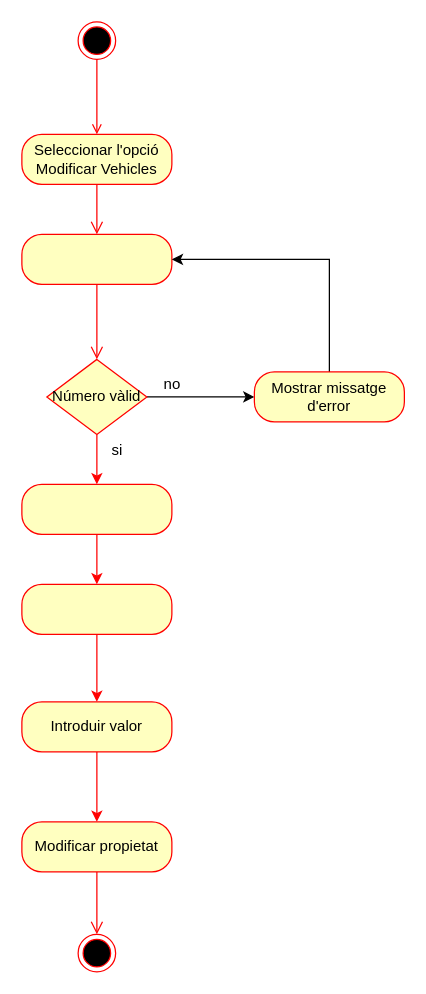
Some shapes in this 426 by 994 pixel diagram are drawn without their labels. The shapes that lost their labels are listed below. From the top down, each one's centre as x and y in pixels, then its label:
At [96,258]: "Seleccionar el vehicle a modificar".
At [96,508]: "Mostrar menú modificar vehicle".
At [96,608]: "Seleccionar opció a modificar".
